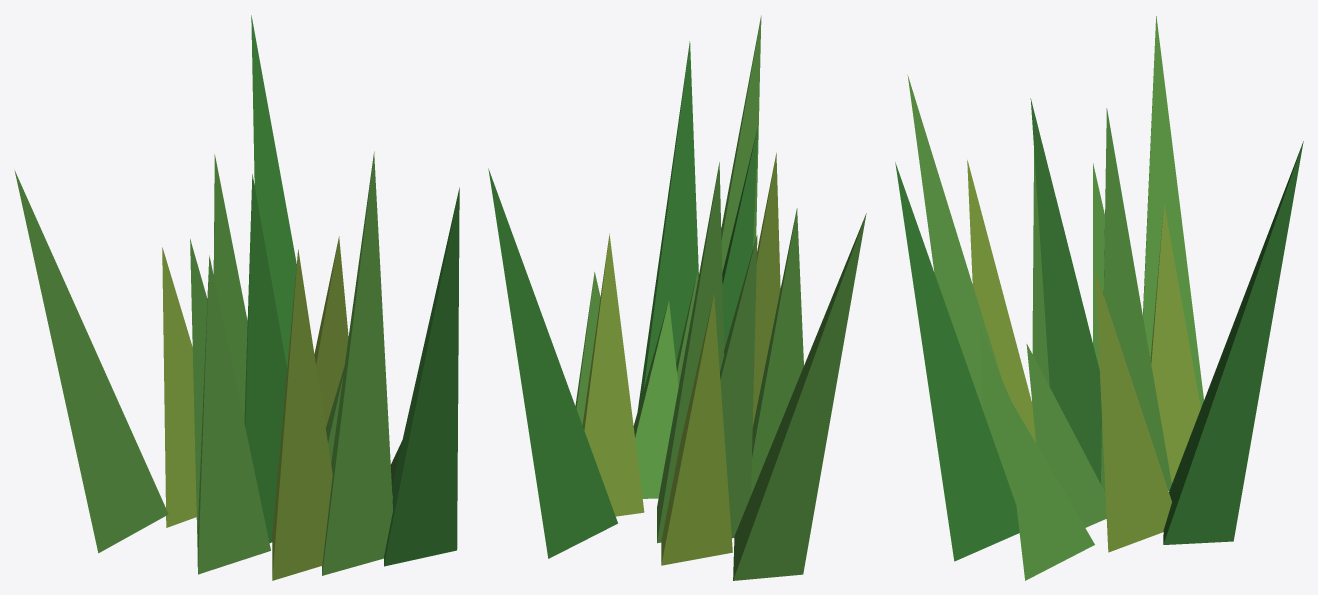
Rendered from Scatter_GrassTuftB.fbx.
3 renders of one model, left to right at view 1: azimuth 30°, elevation 25°; view 2: azimuth 150°, elevation 25°; view 3: azimuth 270°, elevation 25°, orthographic. The views are drawn at different scales.
Visible parts, largest first — view 1: GrassTuftB; view 2: GrassTuftB; view 3: GrassTuftB.
Part boxes in pixels (x1,y1,x2,y2): GrassTuftB: (14, 15, 459, 580); GrassTuftB: (488, 15, 866, 580); GrassTuftB: (895, 16, 1303, 580).
Bounding box in the file's own units: 2.63 × 3.03 × 2.54.
